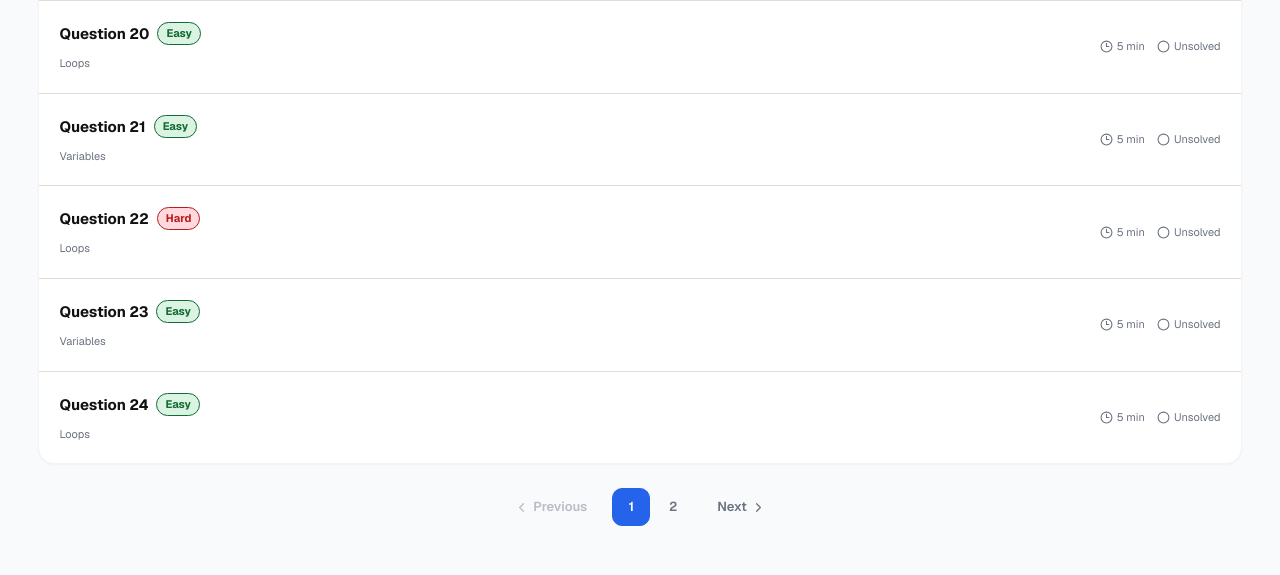
Scenario: Practice cursor pagination › resets to page one when filters or search change
(page scrolled)
Click the button with aria-label "Next page".
click(742, 507)  # box [704, 488, 779, 526]
(page scrolled)
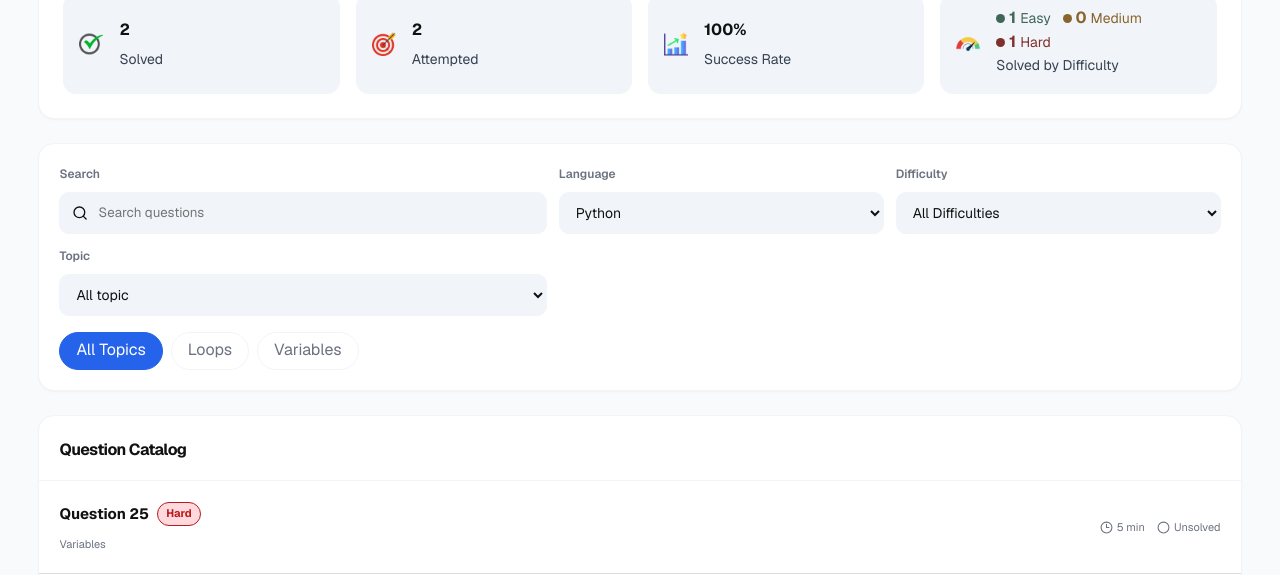
Result: the text "Question 25" is shown at [59, 501, 149, 527]
Select "Hard" in the dropdown labelled "Difficulty" at [1058, 213], box [896, 192, 1221, 234]
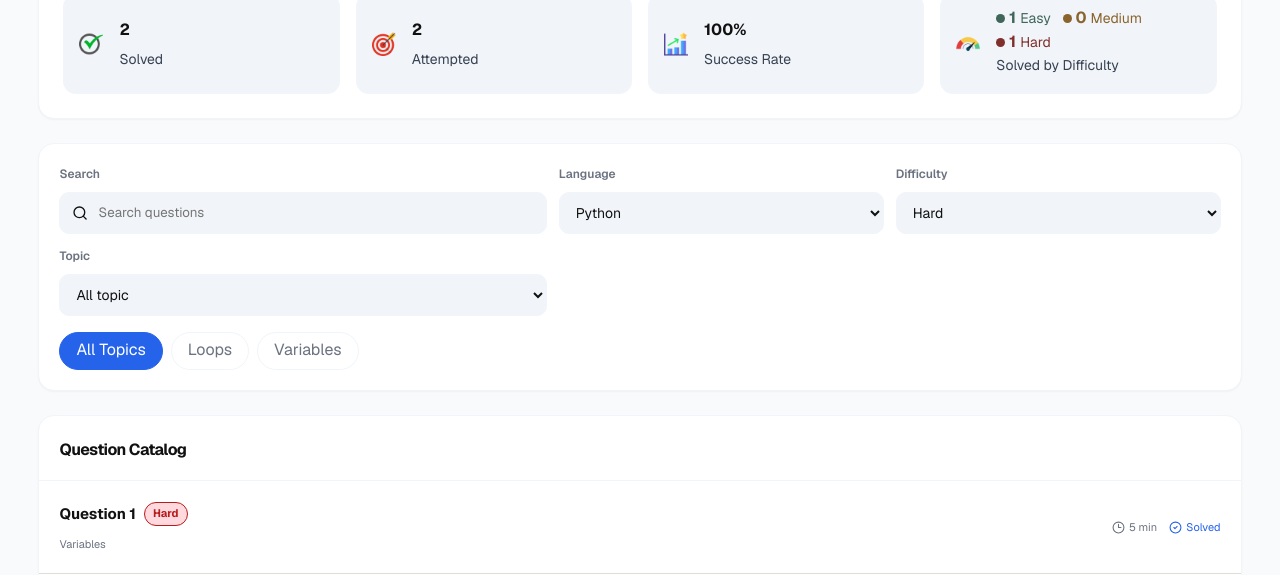
Expected: the element named "Easy — 1 question" shows "1", [1009, 7, 1016, 28]
Expected: the element named "Hard — 1 question" shows "1", [1009, 31, 1016, 52]
Select "Loops" in the dropdown labelled "Topic" at [303, 295], box [59, 274, 547, 316]
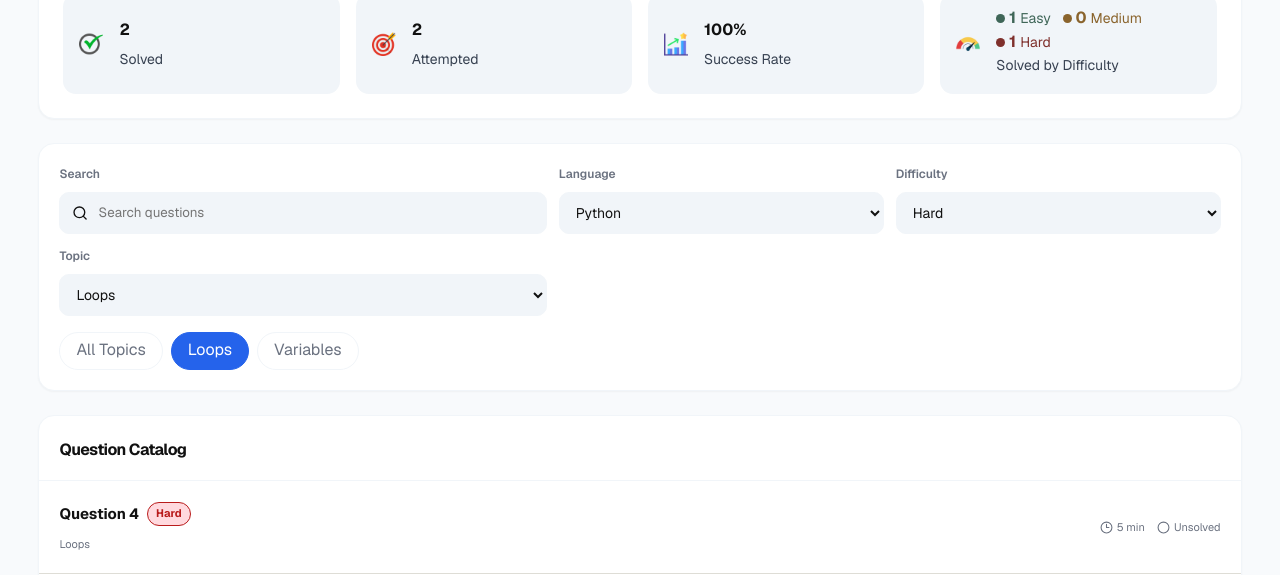
Expected: the element named "Easy — 1 question" shows "1", [1009, 7, 1016, 28]
Expected: the element named "Hard — 1 question" shows "1", [1009, 31, 1016, 52]
Select "All topic" in the dropdown labelled "Topic" at [303, 295], box [59, 274, 547, 316]
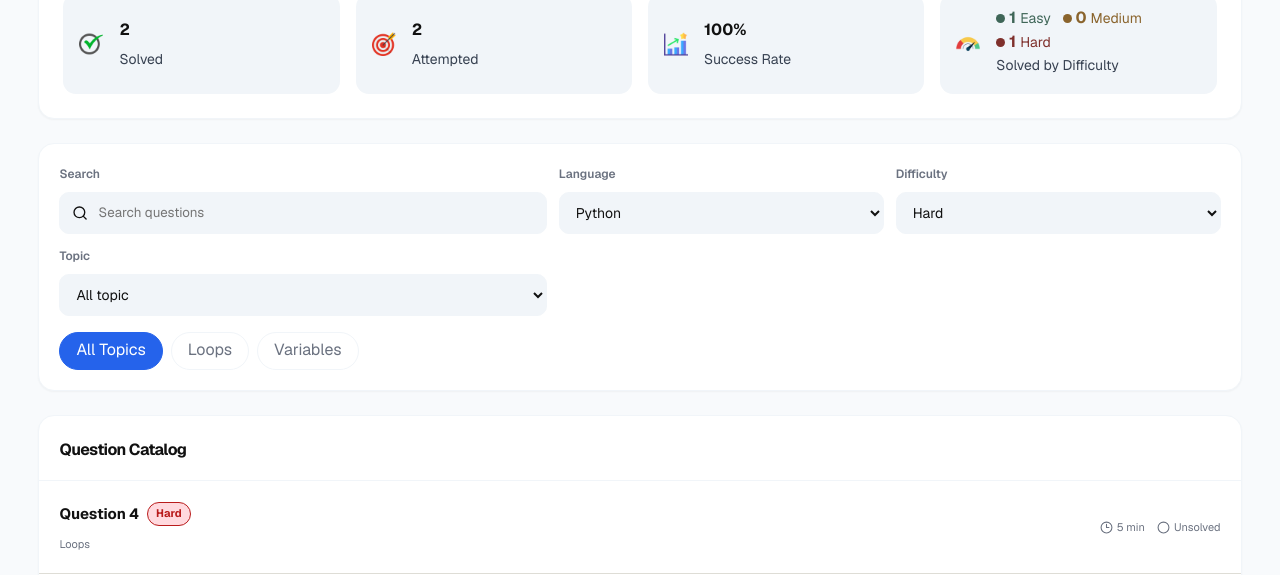
Type "Question 49" into the search field labelled "Search".
click(315, 213); type("Question 49")  # box [96, 203, 534, 222]
(page scrolled)
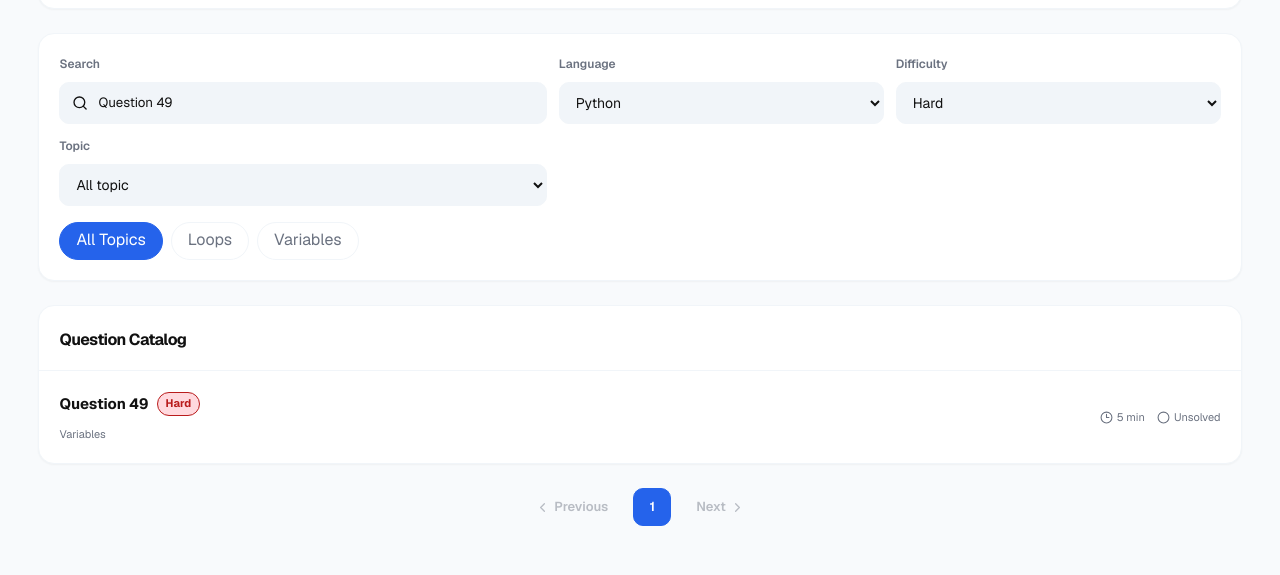
Expected: the element "Question Catalog" is shown, [38, 305, 1242, 464]
Result: the button "Question 49" is shown at [39, 371, 1241, 463]
